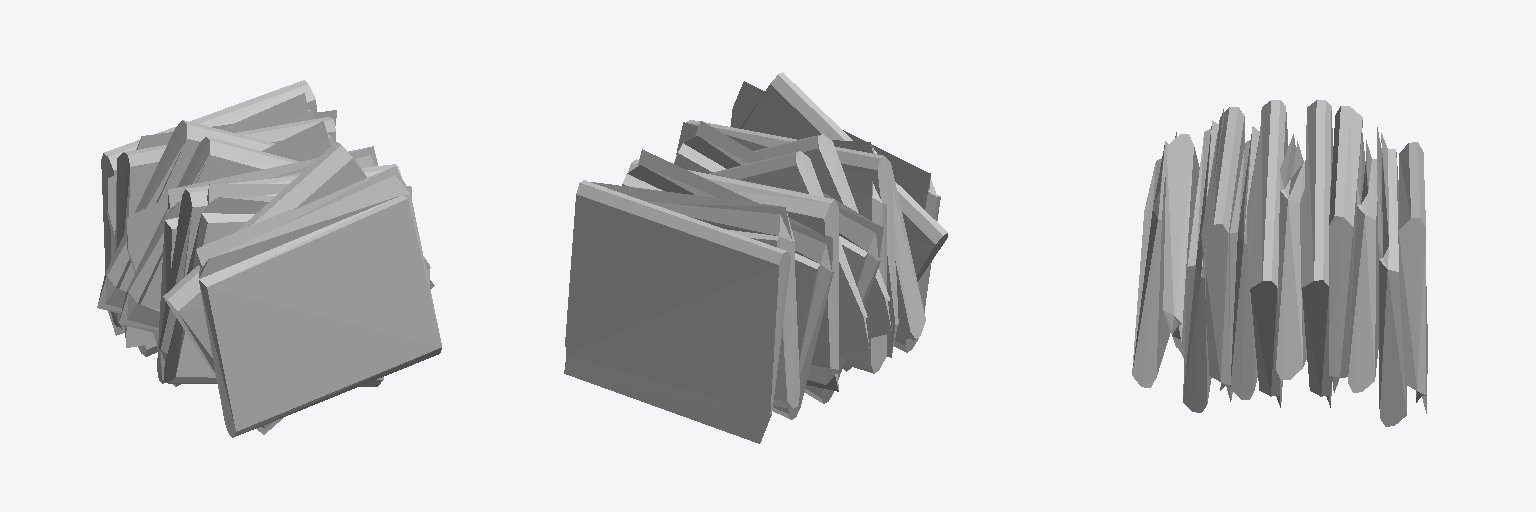
Rendered from newspaperstack.obj.
3 views of the same model, side by side, from view 1: azimuth 30°, elevation 25°; view 2: azimuth 150°, elevation 25°; view 3: azimuth 270°, elevation 25° (orthographic).
Visible parts, largest first — view 1: newspaperstack; view 2: newspaperstack; view 3: newspaperstack.
Part boxes in pixels (x1,y1,x2,y2): newspaperstack: (97, 80, 441, 437); newspaperstack: (564, 72, 947, 443); newspaperstack: (1132, 100, 1427, 426).
Bounding box in the file's own units: 25.8 × 25.55 × 24.64.